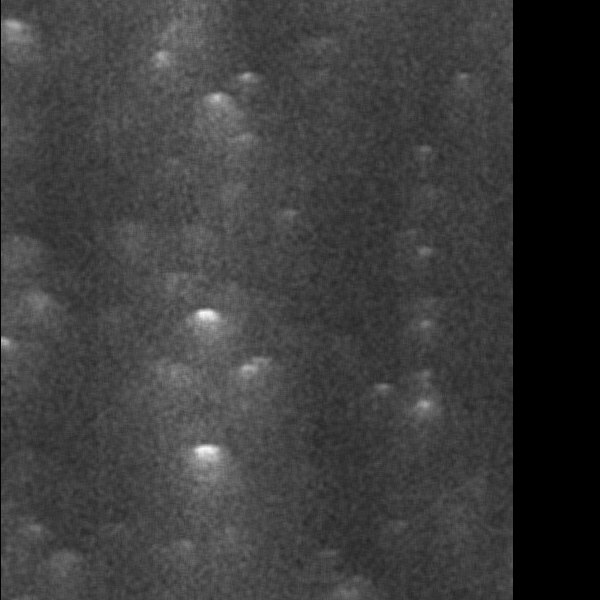spark: (136, 359, 205, 417), (17, 281, 63, 348), (178, 440, 239, 489), (184, 305, 233, 358), (220, 356, 273, 399), (195, 89, 234, 143), (27, 555, 91, 583), (4, 518, 57, 545), (1, 12, 24, 73), (150, 42, 177, 83), (322, 578, 370, 600), (409, 393, 438, 424), (366, 380, 396, 408), (234, 67, 259, 97), (406, 141, 441, 162), (170, 535, 200, 559), (412, 313, 440, 338), (409, 244, 440, 264), (388, 516, 411, 536), (232, 128, 251, 150)
